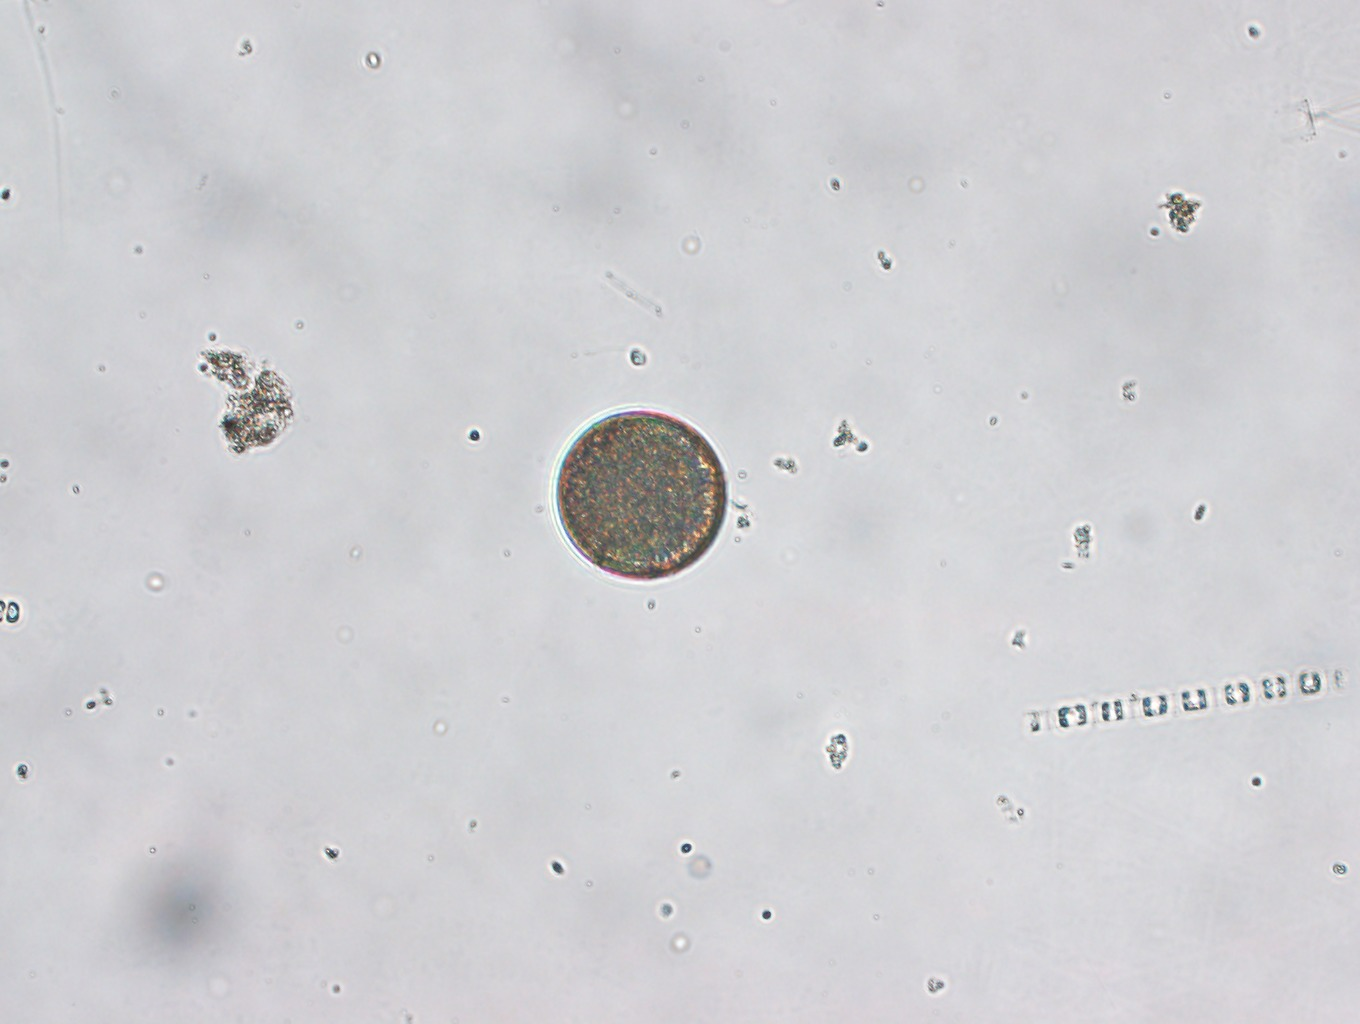coscinodiscus: (552, 407, 730, 584)
skeletonema: (1016, 665, 1356, 737)
